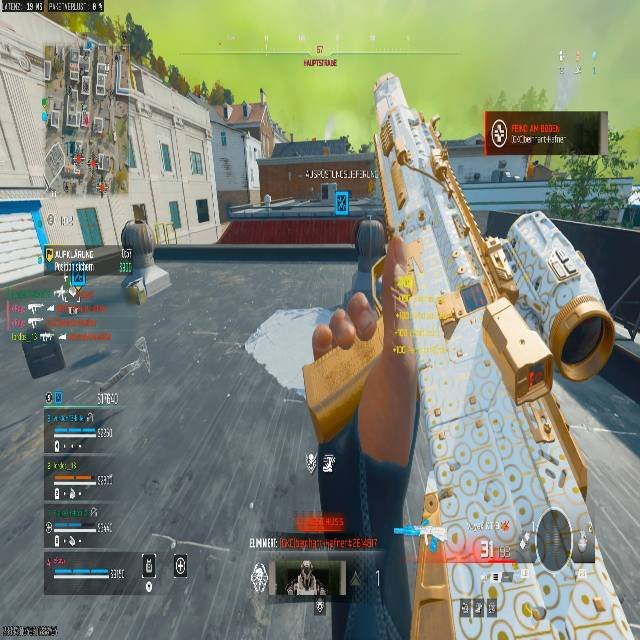head: (133, 204, 145, 221)
player: (117, 204, 156, 307)
